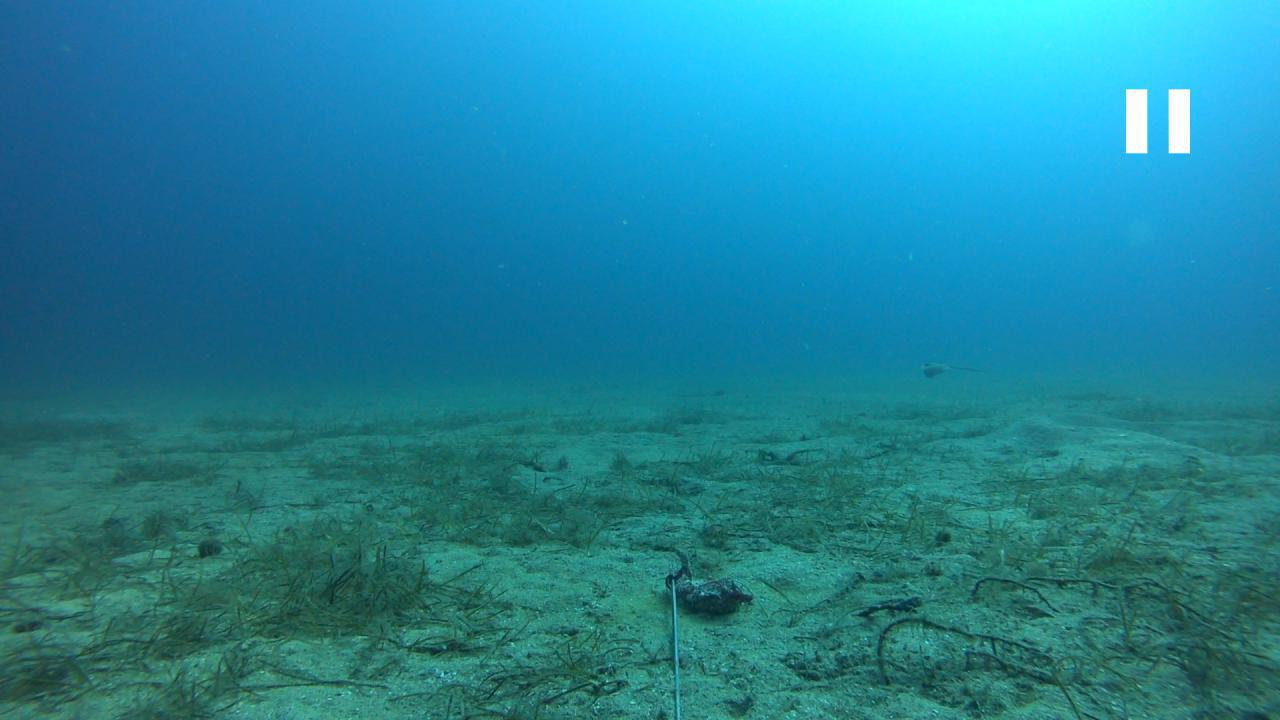dasyatis: (918, 360, 986, 379)
